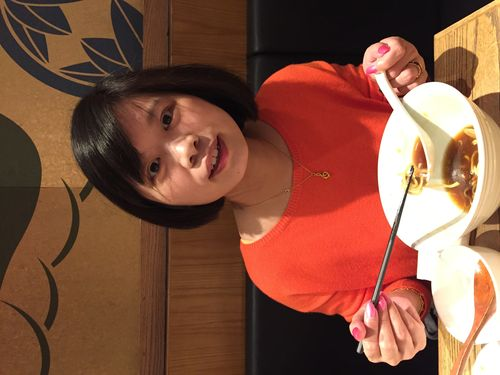no_mask: (94, 92, 250, 202)
